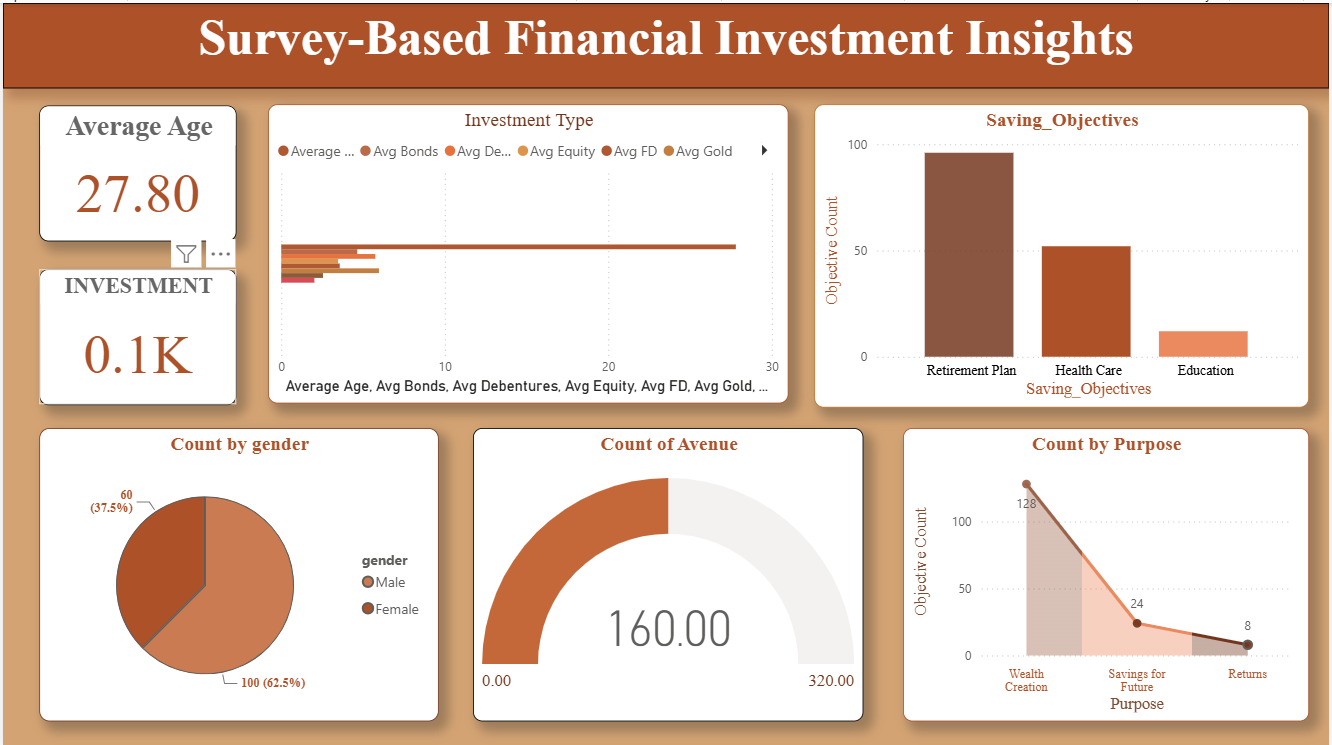

The dashboard page shown, as its layout file describes it:
{"tool":"powerbi","page":{"name":"Page 1","canvas":[1280,720],"ordinal":0},"visuals":[{"type":"textbox","box":[0,0,1280.4,82.6],"z":0},{"type":"card","title":"Average  Age","fields":{"Values":["Data_set 2.Average Age"]},"box":[34.9,98.5,190.8,131.3],"z":1000},{"type":"card","title":"INVESTMENT","fields":{"Values":["Data_set 2.Investment %"]},"box":[34.9,256.4,190.8,131.3],"z":2000},{"type":"clusteredBarChart","title":"Investment Type","fields":{"Y":["Data_set 2.Average Age","Data_set 2.Avg Bonds","Data_set 2.Avg Debentures","Data_set 2.Avg Equity","Data_set 2.Avg FD","Data_set 2.Avg Gold","Data_set 2.Avg Mutual Funds","Data_set 2.Avg PPF"]},"box":[255.4,98.2,502.5,289.1],"z":3000},{"type":"clusteredColumnChart","title":" Saving_Objectives","fields":{"Category":["Data_set 2.Saving_Objectives"],"Y":["Data_set 2.Objective Count"]},"box":[782.5,97.5,477.5,292.5],"z":4000},{"type":"pieChart","title":"Count by gender","fields":{"Y":["Data_set 2.Objective Count"],"Category":["Data_set 2.gender"]},"box":[35.4,410.4,385.4,283.3],"z":5000},{"type":"gauge","fields":{"Y":["CountNonNull(Data_set 2.Avenue)"]},"box":[454.2,410.4,377.1,283.3],"z":6000},{"type":"lineChart","title":" Count by Purpose","fields":{"Category":["Data_set 2.Purpose"],"Y":["Data_set 2.Objective Count"]},"box":[868.8,410.4,391.7,283.3],"z":7000}]}

Visuals, with their boxes in screenshot pixels (x1, y1, x2, y2), scaled from the page's 1280x720 canvas onto the 1332x745 screenshot:
textbox: pyautogui.locateOnScreen(0, 0, 1331, 85)
"Average  Age" card: pyautogui.locateOnScreen(36, 102, 235, 238)
"INVESTMENT" card: pyautogui.locateOnScreen(36, 265, 235, 401)
"Investment Type" clusteredBarChart: pyautogui.locateOnScreen(266, 102, 789, 401)
" Saving_Objectives" clusteredColumnChart: pyautogui.locateOnScreen(814, 101, 1311, 404)
"Count by gender" pieChart: pyautogui.locateOnScreen(37, 425, 438, 718)
gauge - CountNonNull(Data_set 2.Avenue): pyautogui.locateOnScreen(473, 425, 865, 718)
" Count by Purpose" lineChart: pyautogui.locateOnScreen(904, 425, 1312, 718)
